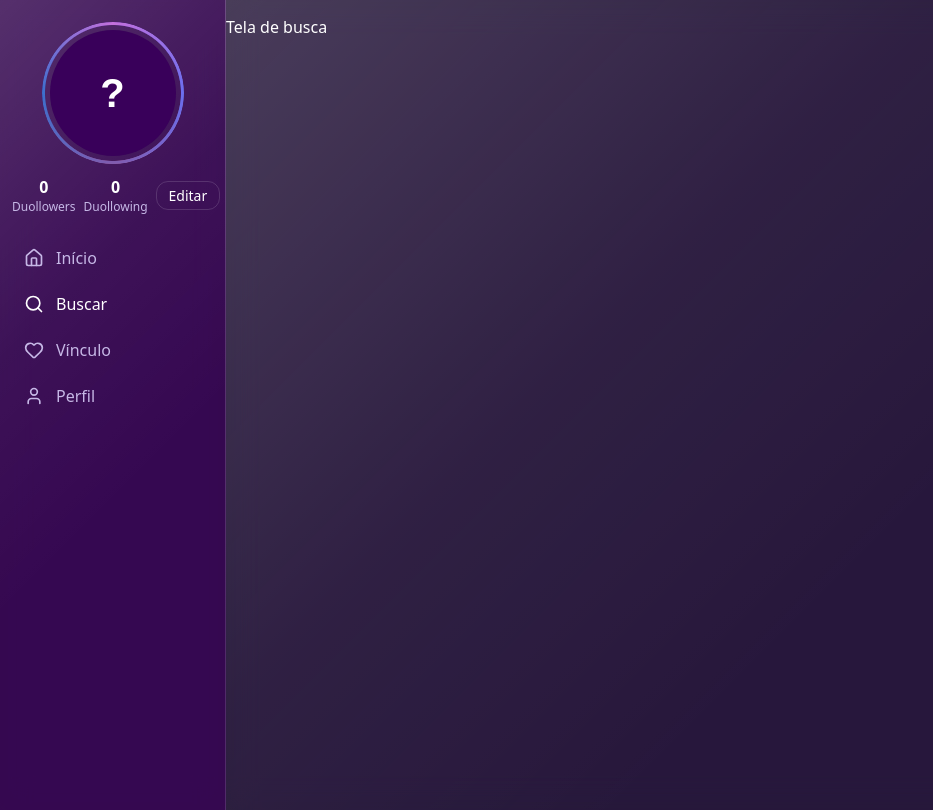
Test: AppLayout › a página atual fica marcada e navegar troca só a área da direita
Click the link "Início" at (60, 258), box 24,247 -> 97,269
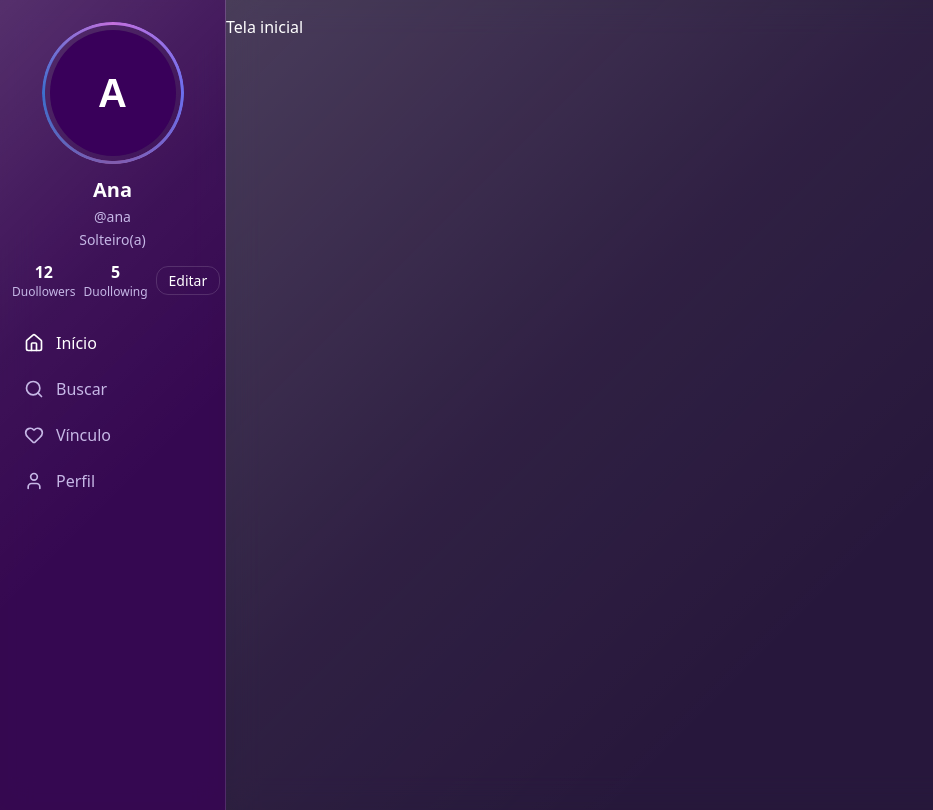
Check: the button "Editar" is shown, box 156,266 -> 220,295
Check: the text "Tela inicial" is shown, box 226,16 -> 303,38
